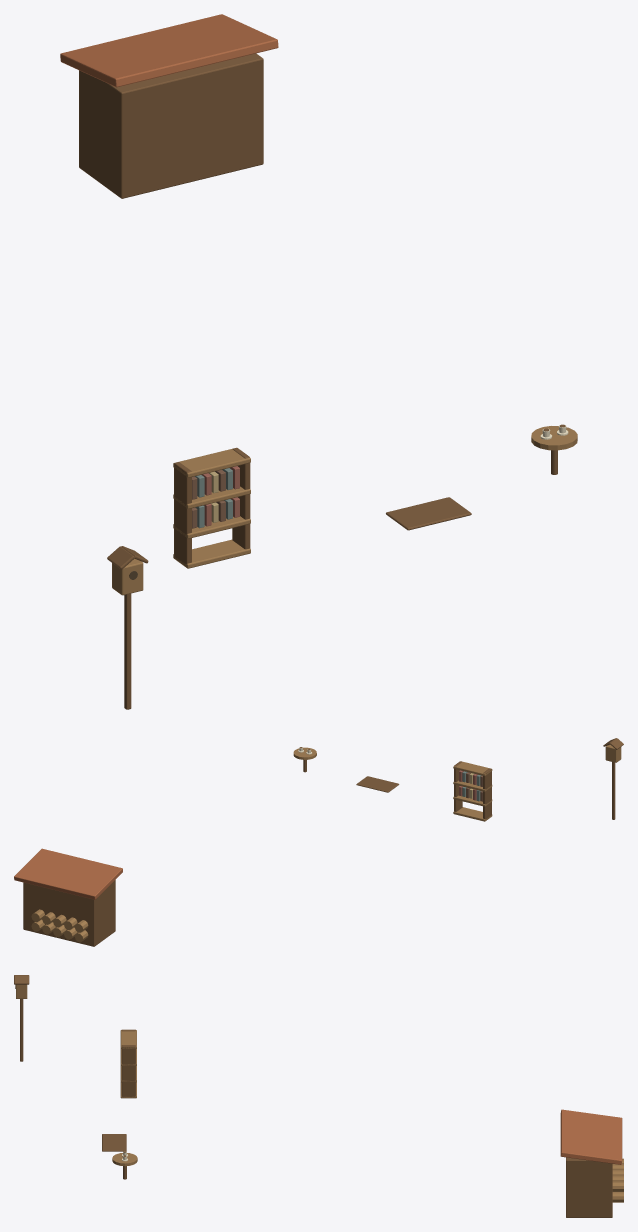
The model's file is SM_IntellectualGrandpaHouse_Props.fbx.
3 views of the same model, one above another, from view 1: azimuth 30°, elevation 25°; view 2: azimuth 150°, elevation 25°; view 3: azimuth 270°, elevation 25° (orthographic). The views are drawn at different scales.
Visible parts, largest first — view 1: SM_IntellectualGrandpaHouse_Props; view 2: SM_IntellectualGrandpaHouse_Props; view 3: SM_IntellectualGrandpaHouse_Props.
Part boxes in pixels (<box>): SM_IntellectualGrandpaHouse_Props: <box>60,14,577,709</box>; SM_IntellectualGrandpaHouse_Props: <box>14,738,623,946</box>; SM_IntellectualGrandpaHouse_Props: <box>14,975,623,1217</box>.
Size of the model in its own units: 976 by 1435 by 223.
